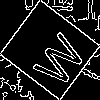W: (24, 25, 89, 91)
